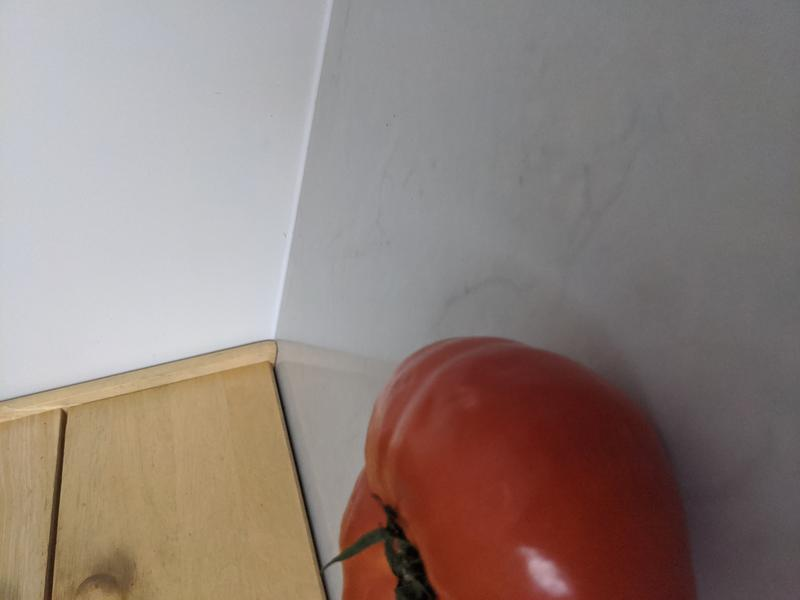tomato: (337, 336, 699, 600)
